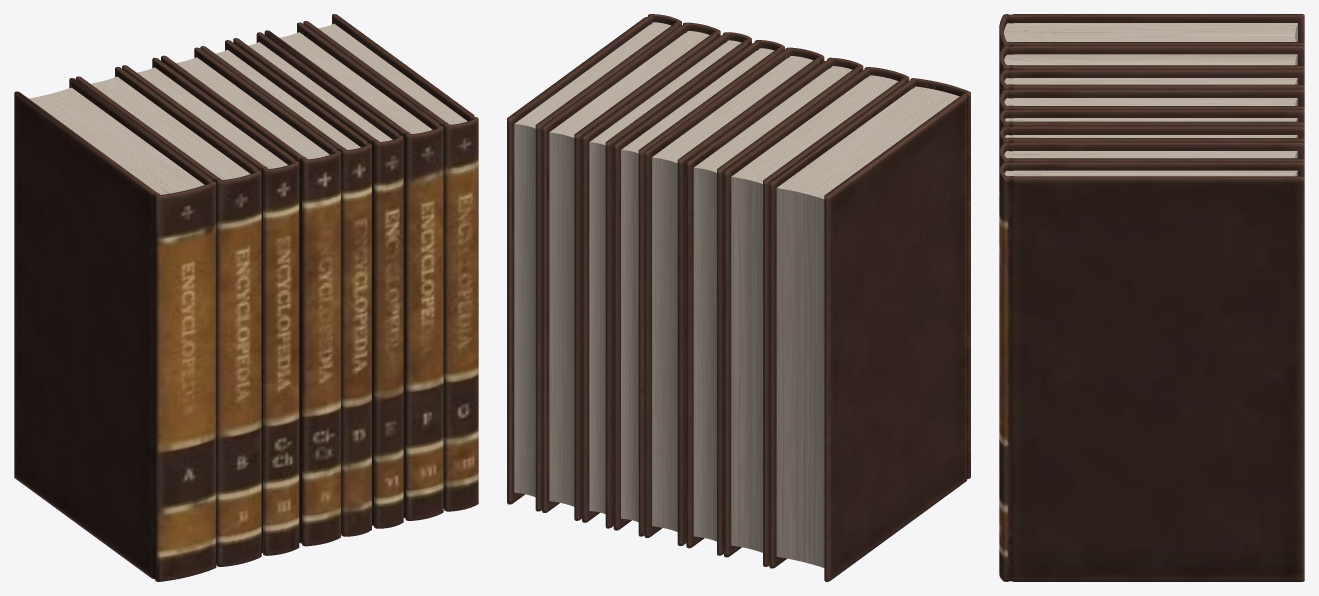
The model's file is ph-book-encyclopedia-set-01.glb.
3 renders of one model, left to right at view 1: azimuth 30°, elevation 25°; view 2: azimuth 150°, elevation 25°; view 3: azimuth 270°, elevation 25°, orthographic. The views are drawn at different scales.
Visible parts, largest first — view 1: book_encyclopedia_set_01_book01, book_encyclopedia_set_01_book02, book_encyclopedia_set_01_book04, book_encyclopedia_set_01_book07, book_encyclopedia_set_01_book03, book_encyclopedia_set_01_book08, book_encyclopedia_set_01_book06, book_encyclopedia_set_01_book05; view 2: book_encyclopedia_set_01_book01, book_encyclopedia_set_01_book02, book_encyclopedia_set_01_book04, book_encyclopedia_set_01_book07, book_encyclopedia_set_01_book03, book_encyclopedia_set_01_book08, book_encyclopedia_set_01_book06, book_encyclopedia_set_01_book05; view 3: book_encyclopedia_set_01_book08, book_encyclopedia_set_01_book01, book_encyclopedia_set_01_book02, book_encyclopedia_set_01_book03, book_encyclopedia_set_01_book04, book_encyclopedia_set_01_book07, book_encyclopedia_set_01_book05, book_encyclopedia_set_01_book06.
Part boxes in pixels (box(x1,y1,x2,y2)): book_encyclopedia_set_01_book01: box(14, 78, 216, 581); book_encyclopedia_set_01_book02: box(76, 67, 261, 566); book_encyclopedia_set_01_book04: box(161, 47, 340, 546); book_encyclopedia_set_01_book07: box(264, 22, 443, 520); book_encyclopedia_set_01_book03: box(122, 57, 299, 555); book_encyclopedia_set_01_book08: box(303, 14, 478, 511); book_encyclopedia_set_01_book06: box(233, 32, 403, 528); book_encyclopedia_set_01_book05: box(200, 40, 371, 536); book_encyclopedia_set_01_book01: box(769, 78, 970, 581); book_encyclopedia_set_01_book02: box(724, 67, 909, 566); book_encyclopedia_set_01_book04: box(644, 47, 824, 545); book_encyclopedia_set_01_book07: box(542, 22, 720, 520); book_encyclopedia_set_01_book03: box(686, 57, 863, 555); book_encyclopedia_set_01_book08: box(507, 14, 681, 511); book_encyclopedia_set_01_book06: box(582, 32, 751, 528); book_encyclopedia_set_01_book05: box(613, 40, 784, 536); book_encyclopedia_set_01_book08: box(999, 161, 1304, 581); book_encyclopedia_set_01_book01: box(999, 14, 1304, 53); book_encyclopedia_set_01_book02: box(999, 45, 1304, 75); book_encyclopedia_set_01_book03: box(999, 69, 1304, 95); book_encyclopedia_set_01_book04: box(999, 89, 1304, 114); book_encyclopedia_set_01_book07: box(999, 142, 1304, 167); book_encyclopedia_set_01_book05: box(999, 109, 1304, 130); book_encyclopedia_set_01_book06: box(999, 126, 1304, 148).
Size of the model in its own units: 0.2081 by 0.2374 by 0.1631.
2 materials, 2 textured.
